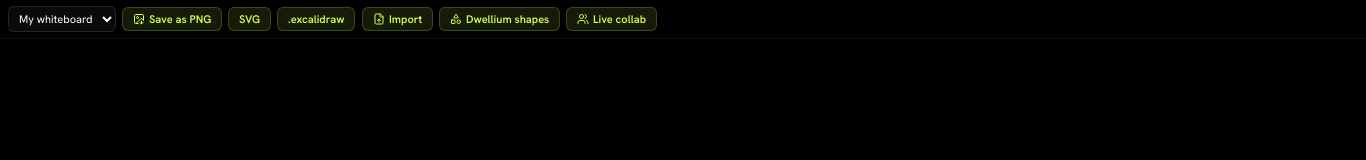
it: widget UI: start / in-session / leave / join-from-fragment › an invalid pasted link is refused with a visible notice, not a dead session
Step 1. Click the button "Live collab" → (612, 19), box 566,7 -> 658,31
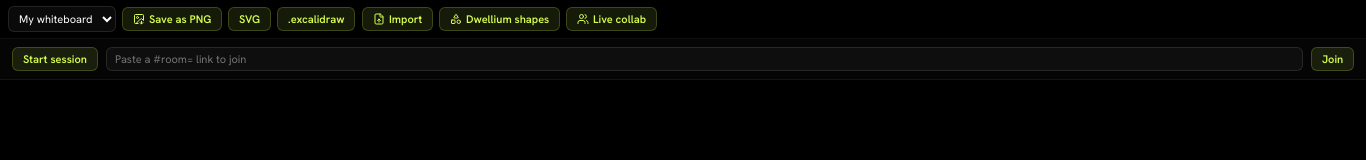
Step 2. Type "https://x.test/#room=bad,short" into the field named "Join with link" → (704, 59), box 106,47 -> 1303,71
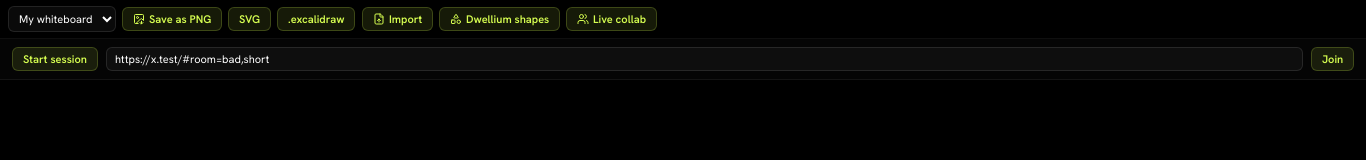
Step 3. Click the button "Join" → (1332, 59), box 1311,47 -> 1354,71
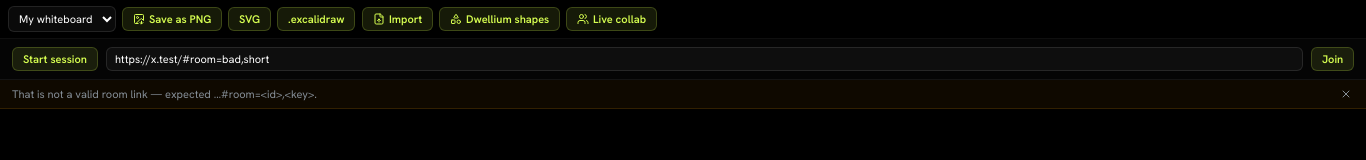
Result: the message shows "not a valid room link" at 12,87 -> 317,101
